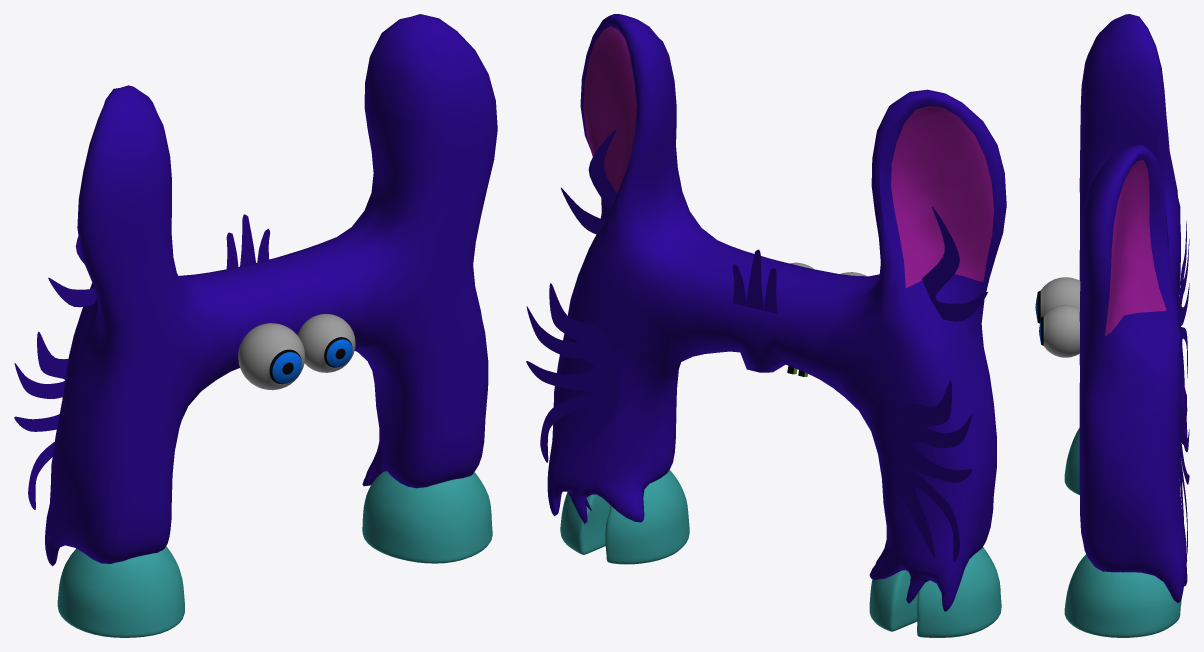
3 views of the same model, side by side, from view 1: azimuth 30°, elevation 25°; view 2: azimuth 150°, elevation 25°; view 3: azimuth 270°, elevation 25° (orthographic). The views are drawn at different scales.
Visible parts, largest first — view 1: Sphere034, Object008, Object007; view 2: Sphere034; view 3: Sphere034, Object007, Object008.
Part boxes in pixels (<box>): Sphere034: <box>14,14,497,637</box>; Object008: <box>238,323,305,390</box>; Object007: <box>297,314,355,372</box>; Sphere034: <box>526,14,1006,637</box>; Sphere034: <box>1064,14,1189,637</box>; Object007: <box>1039,304,1079,357</box>; Object008: <box>1035,277,1080,323</box>.
Bounding box in the file's own units: 144 × 162 × 48.5.
